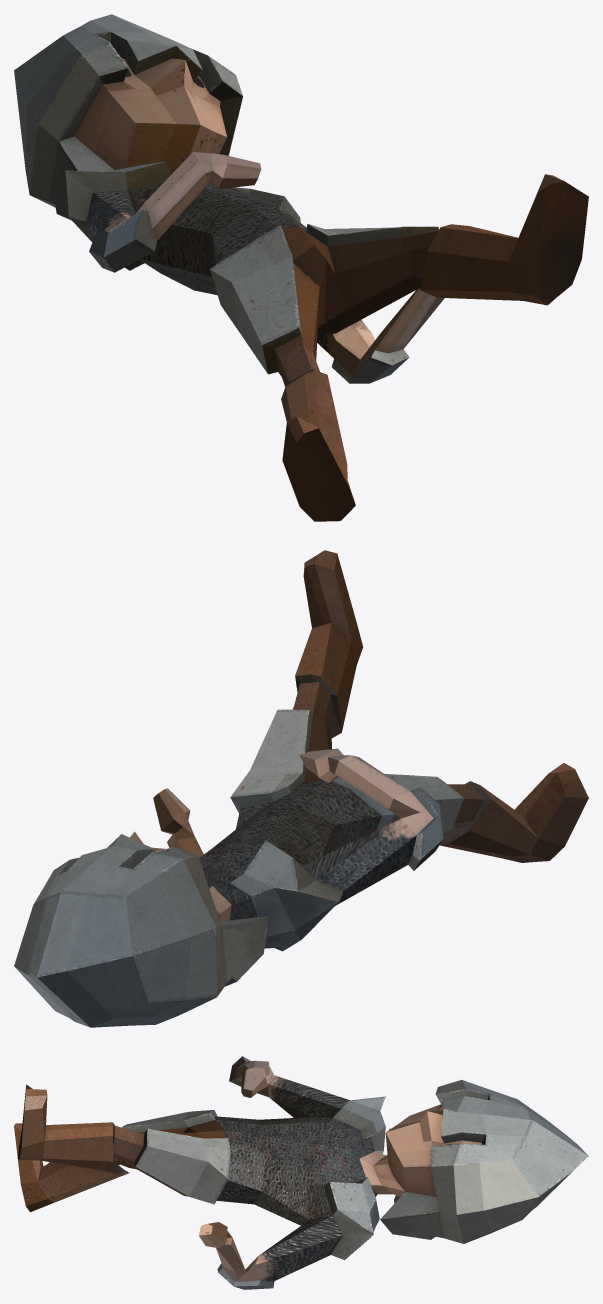
File: Walk_Soldier_16.obj
The picture shows the model from 3 angles, top to bottom: view 1: azimuth 30°, elevation 25°; view 2: azimuth 150°, elevation 25°; view 3: azimuth 270°, elevation 25°; orthographic projection. The views are drawn at different scales.
Parts seen in each view (by area): view 1: Soldado_LowPolySTD; view 2: Soldado_LowPolySTD; view 3: Soldado_LowPolySTD.
Boxes of the visible parts, left/top/right/bottom form: Soldado_LowPolySTD: left=14, top=14, right=588, bottom=521; Soldado_LowPolySTD: left=14, top=550, right=588, bottom=1027; Soldado_LowPolySTD: left=14, top=1056, right=588, bottom=1289.
Bounding box in the file's own units: 1.4 × 1.19 × 2.92.
